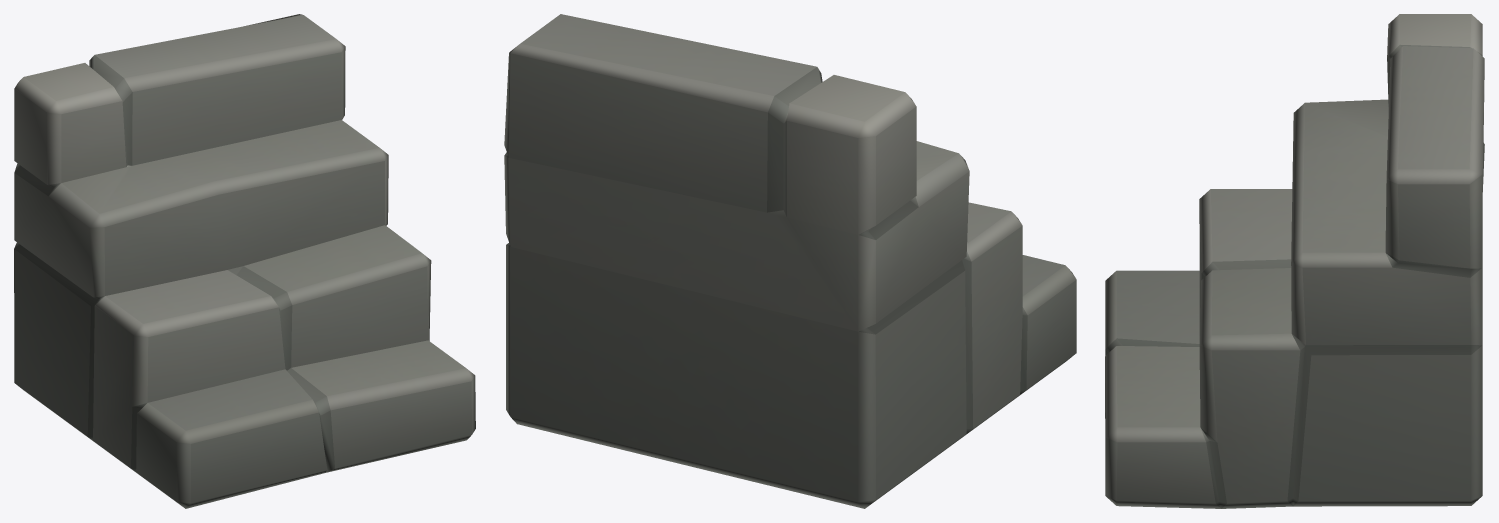
The model's file is stairs_shade_2.fbx.
The picture shows the model from 3 angles, left to right: view 1: azimuth 30°, elevation 25°; view 2: azimuth 150°, elevation 25°; view 3: azimuth 270°, elevation 25°; orthographic projection. The views are drawn at different scales.
Visible parts, largest first — view 1: stairs_shade_2; view 2: stairs_shade_2; view 3: stairs_shade_2.
Boxes of the visible parts, left/top/right/bottom form: stairs_shade_2: left=14, top=14, right=475, bottom=508; stairs_shade_2: left=504, top=14, right=1076, bottom=508; stairs_shade_2: left=1105, top=14, right=1484, bottom=508.
Size of the model in its own units: 101 by 102 by 101.
